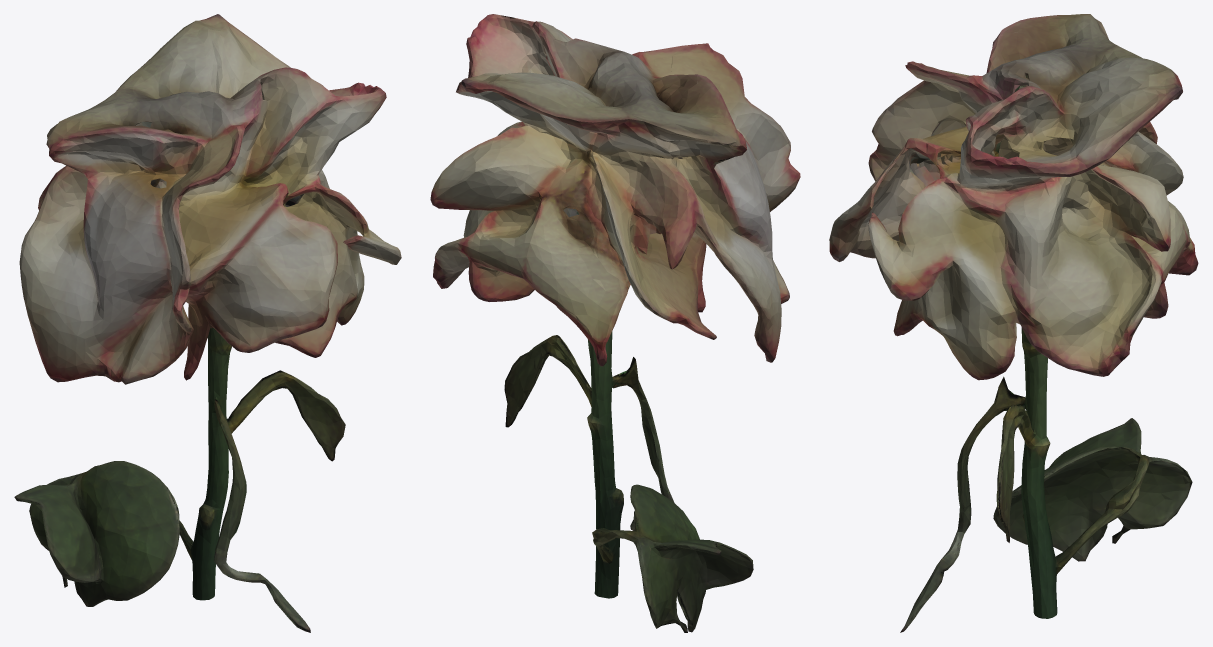
The picture shows the model from 3 angles, left to right: view 1: azimuth 30°, elevation 25°; view 2: azimuth 150°, elevation 25°; view 3: azimuth 270°, elevation 25°; orthographic projection. The views are drawn at different scales.
Parts seen in each view (by area): view 1: world; view 2: world; view 3: world.
Part boxes in pixels (<box>): world: <box>14,14,401,632</box>; world: <box>430,14,800,632</box>; world: <box>829,14,1198,632</box>.
Bounding box in the file's own units: 0.586 × 0.9257 × 0.5443.
1 material, 1 textured.
